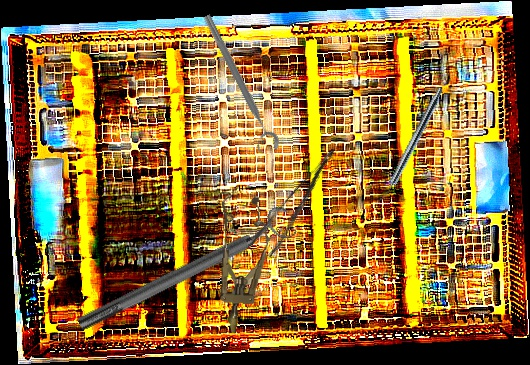Dressing Forceps: (248, 146, 352, 260)
Fixation Ring: (70, 202, 300, 341), (191, 11, 283, 158)
Handpiece: (376, 85, 446, 206)
Speculum: (205, 191, 275, 336)
